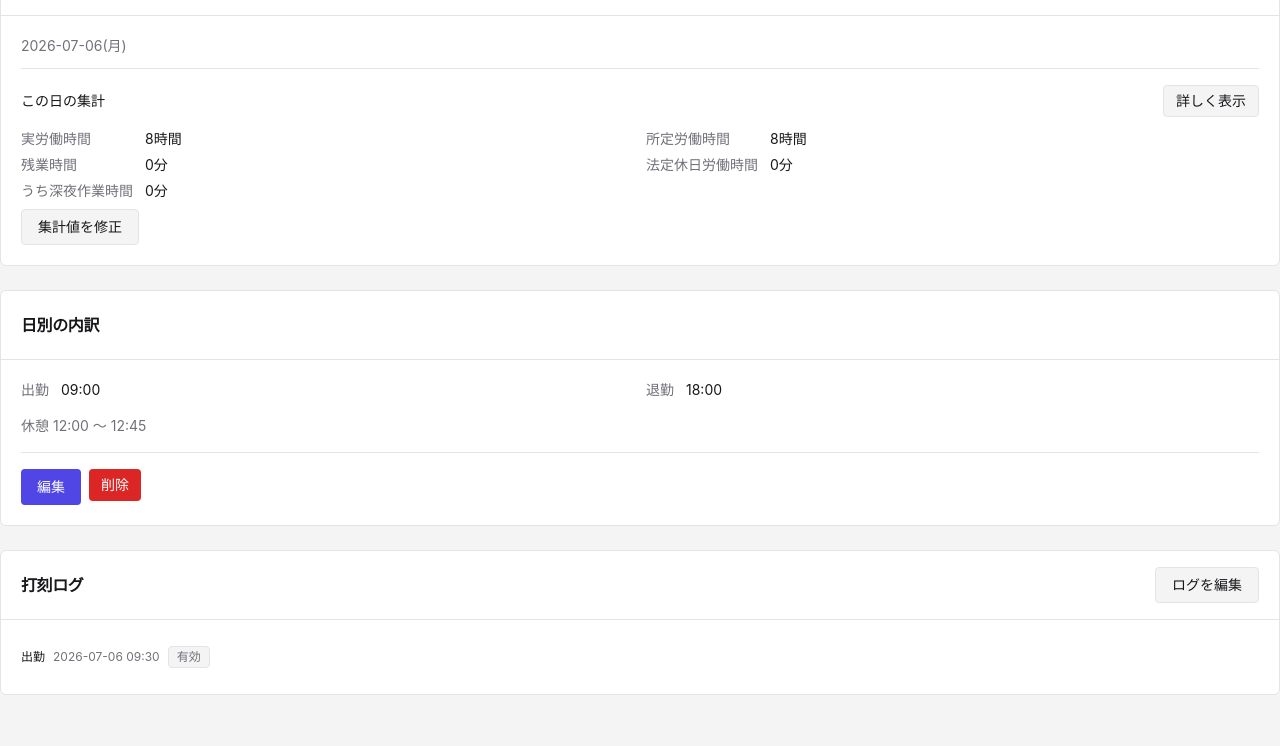
it: AttendanceDayPage › cancels an in-progress punch correction when returning to view mode
The image size is (1280, 746).
Click the button "ログを編集" at (1207, 585), box [1155,567,1259,603]
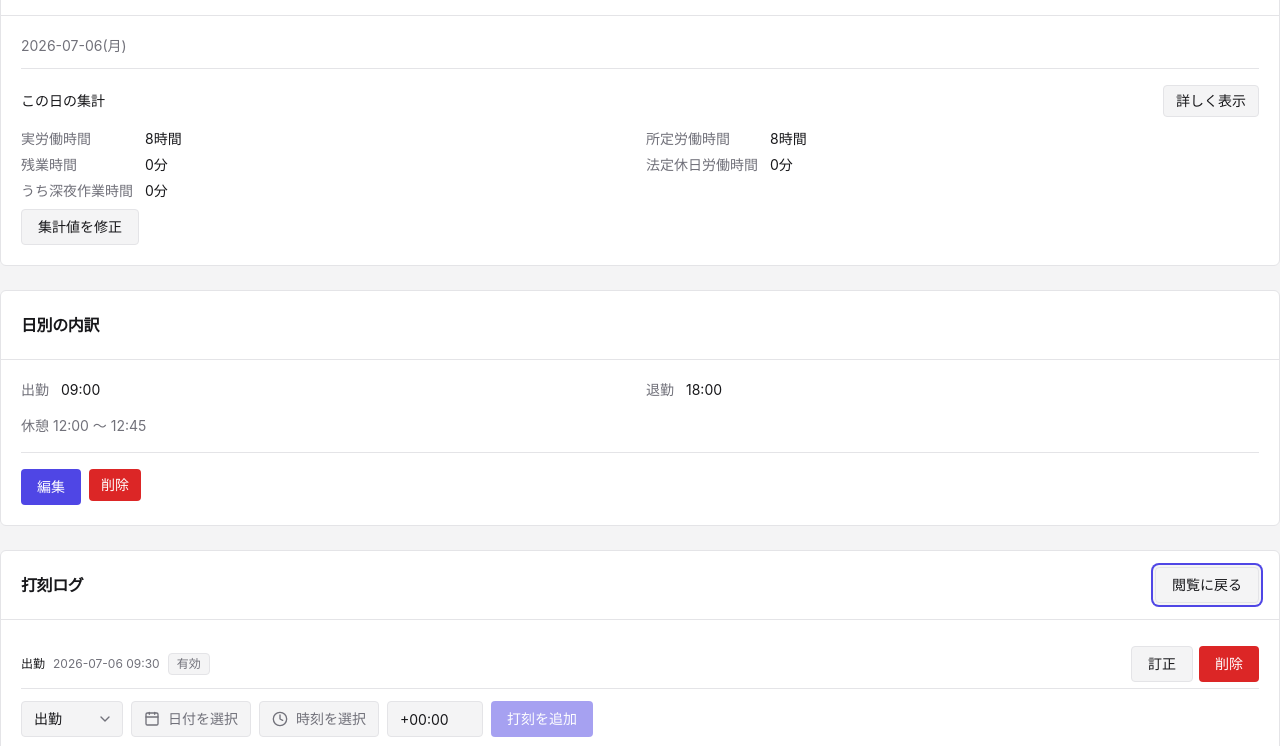
Click the button "訂正" at (1162, 664), box [1131,646,1193,682]
(page scrolled)
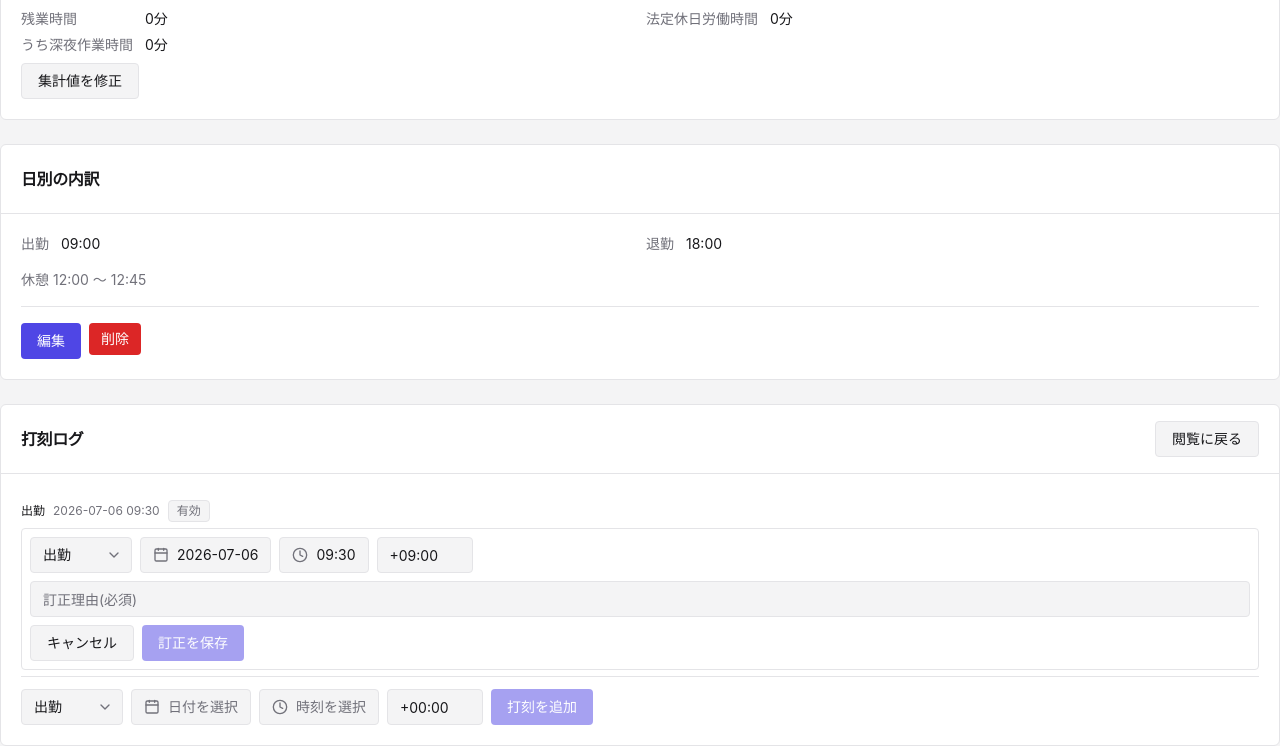
Type "保存しない入力" into the field labelled "訂正理由" at (640, 599), box [30,581,1250,617]
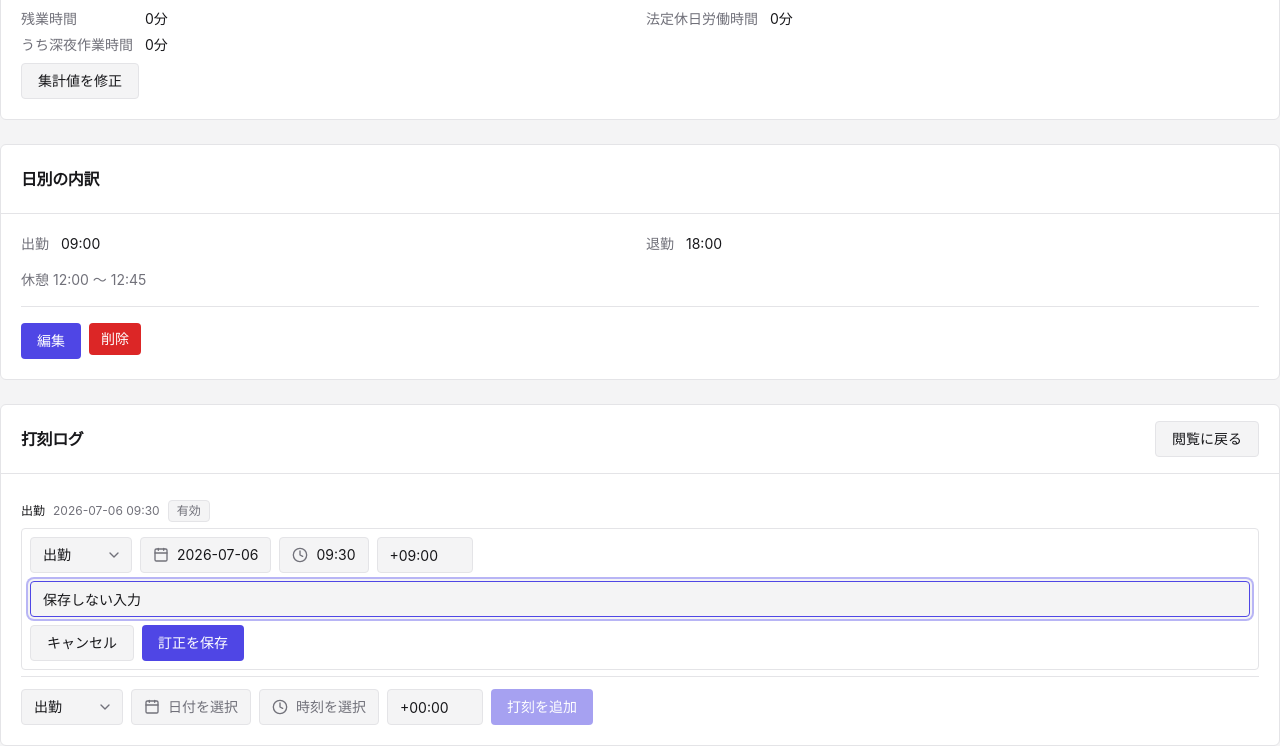
Click the button "閲覧に戻る" at (1207, 439), box [1155,421,1259,457]
(page scrolled)
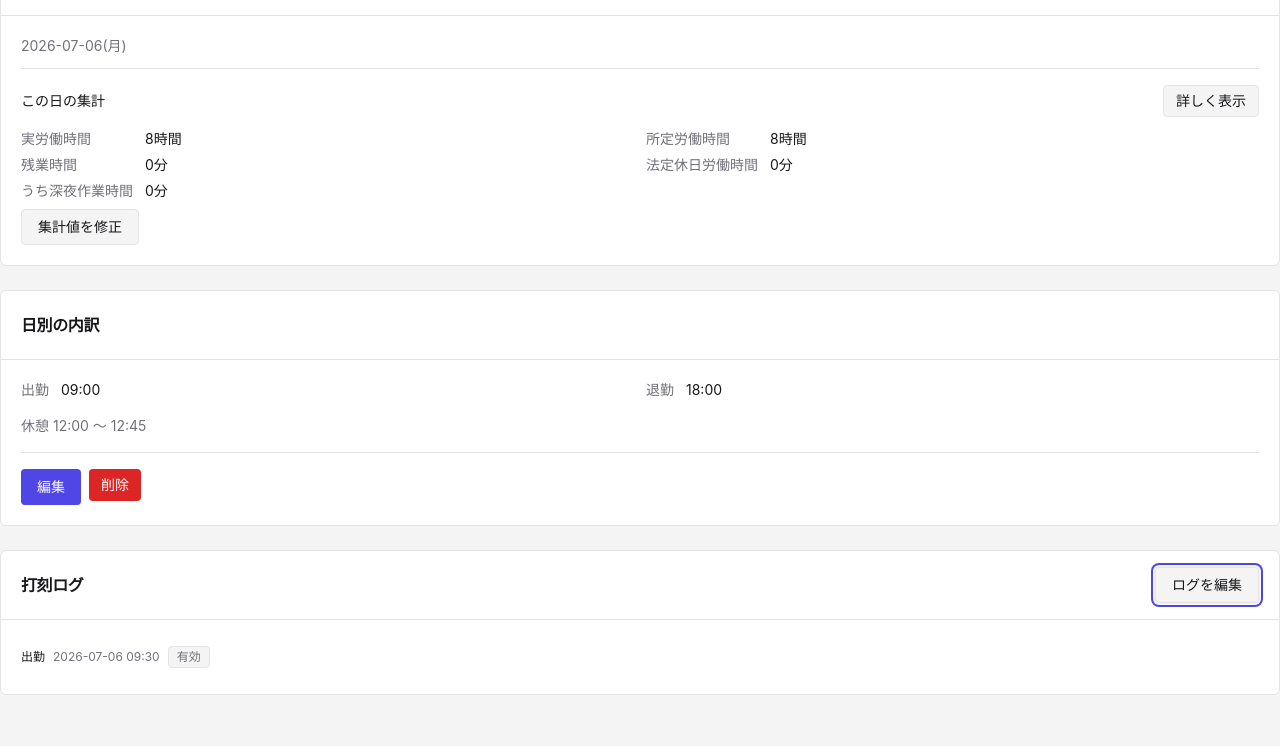
Expected: the field labelled "訂正理由" is gone
Expected: the button "訂正を保存" is gone
Expected: the button "訂正" is gone
